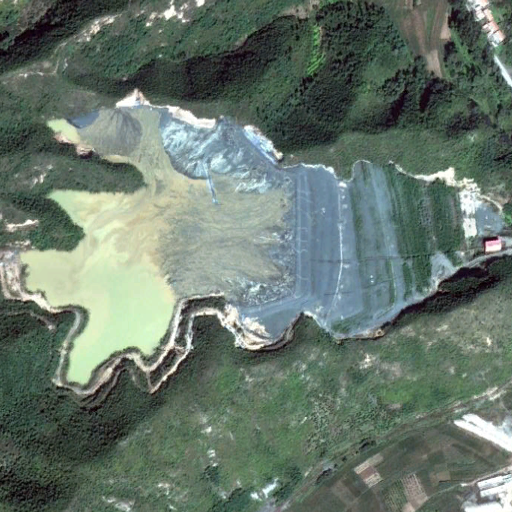tp: (19, 101, 495, 390)
